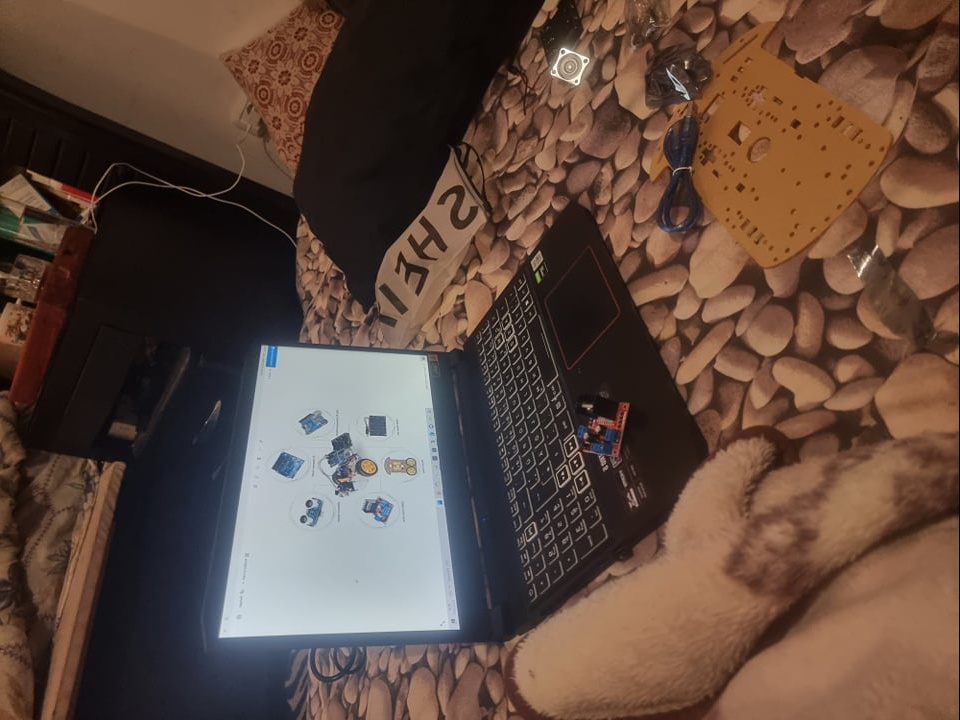5V EXPANSION: (272, 451, 305, 479)
BATTERY BOX: (535, 1, 588, 56), (371, 414, 388, 436)
MOTOR: (569, 389, 631, 460), (363, 495, 395, 526)
SENSOR: (303, 496, 323, 529)
UNO R3: (299, 408, 330, 435)
